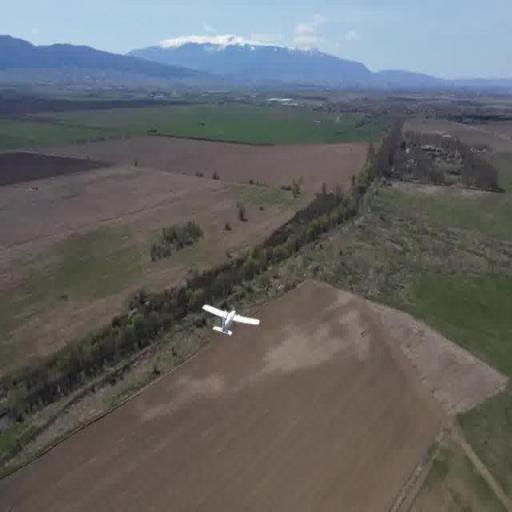uav: (200, 299, 260, 347)
